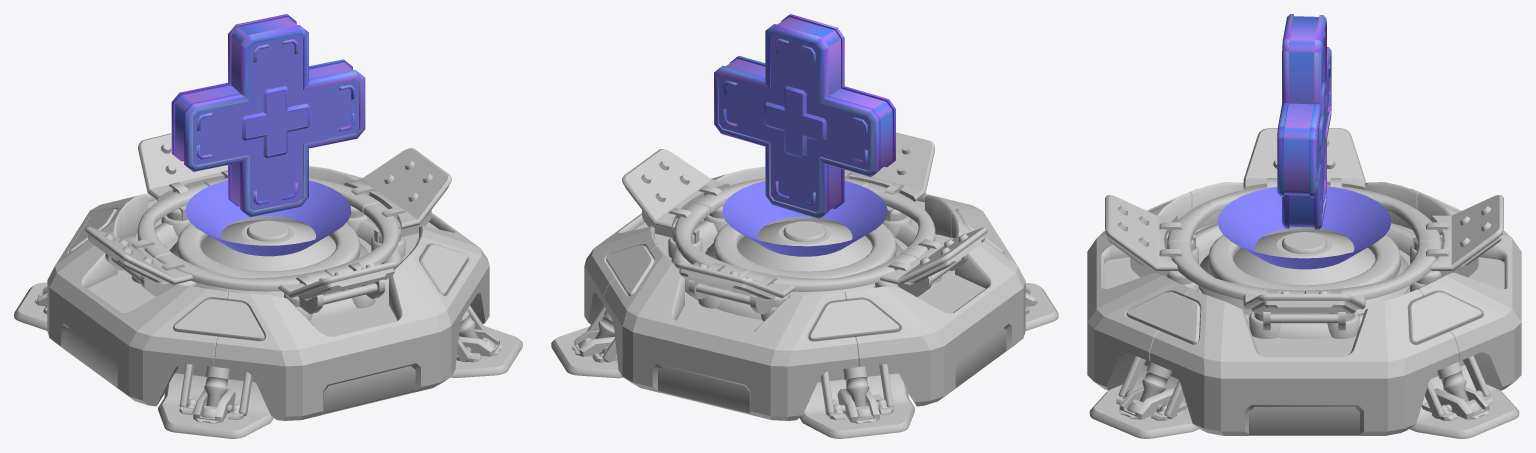
The model's file is Sci-fi Med_kit.obj.
3 renders of one model, left to right at view 1: azimuth 30°, elevation 25°; view 2: azimuth 150°, elevation 25°; view 3: azimuth 270°, elevation 25°, orthographic. The views are drawn at different scales.
Visible parts, largest first — view 1: Med_Kit_Плоскость.004; view 2: Med_Kit_Плоскость.004; view 3: Med_Kit_Плоскость.004.
Boxes of the visible parts, box(x1,y1,x2,y2) form: Med_Kit_Плоскость.004: box(14, 14, 522, 438); Med_Kit_Плоскость.004: box(551, 14, 1058, 438); Med_Kit_Плоскость.004: box(1087, 14, 1521, 438).
Bounding box in the file's own units: 3.79 × 3.1 × 3.79.
